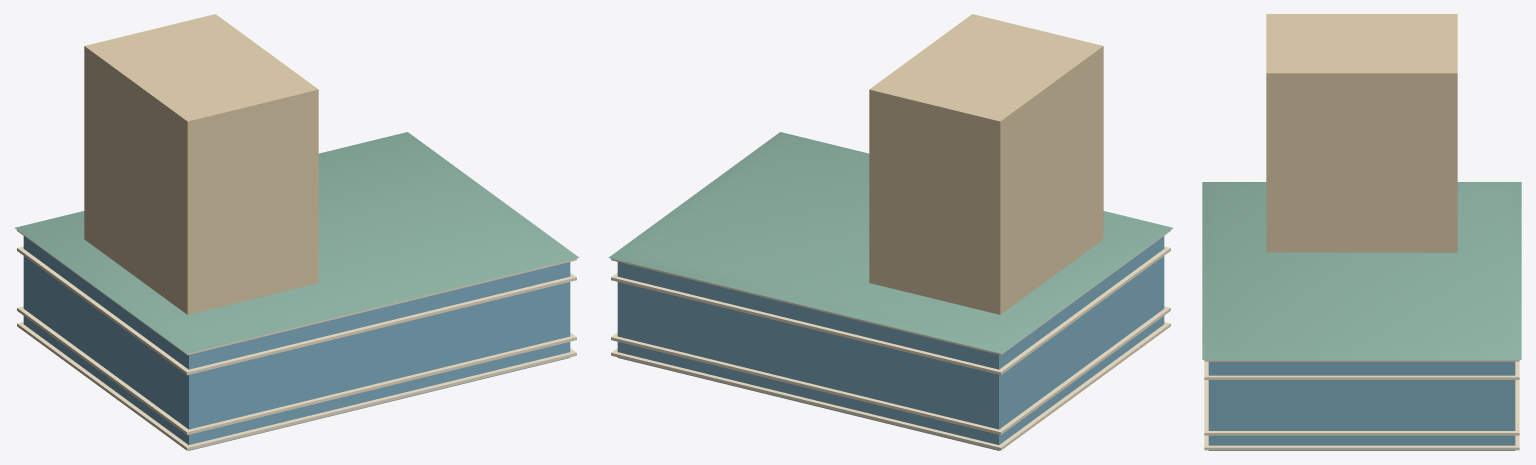
Rendered from modern-3-lod2.glb.
3 views of the same model, side by side, from view 1: azimuth 30°, elevation 25°; view 2: azimuth 150°, elevation 25°; view 3: azimuth 270°, elevation 25° (orthographic). The views are drawn at different scales.
Parts seen in each view (by area): view 1: modern-3_architecture; view 2: modern-3_architecture; view 3: modern-3_architecture.
Boxes of the visible parts, box(x1,y1,x2,y2) form: modern-3_architecture: box(15, 14, 579, 450); modern-3_architecture: box(608, 14, 1172, 450); modern-3_architecture: box(1202, 14, 1521, 450).
Size of the model in its own units: 33 by 24 by 25.
